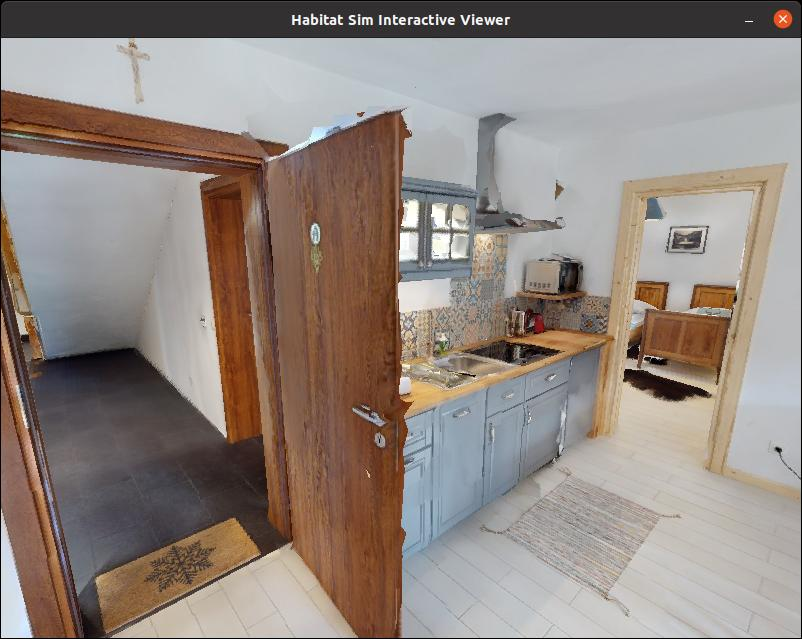door: (276, 109, 403, 639)
door-frame: (0, 93, 326, 635), (605, 167, 757, 466)
